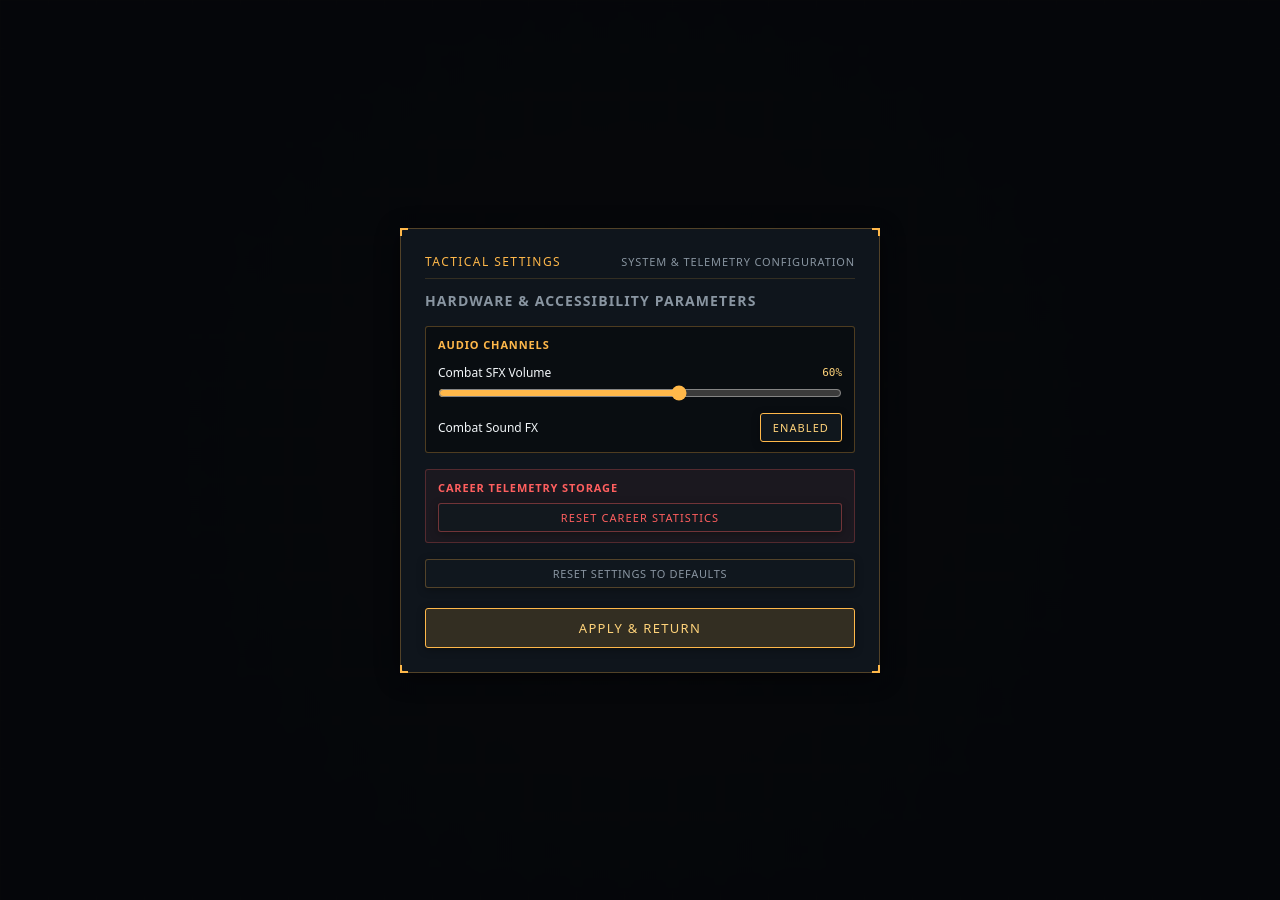
P6 Tactical Telemetry, Charts & Settings Tests › SettingsModal Component › toggles combat SFX and reflects in settingsStore
Click the button "ENABLED". click: coordinates (801, 427)
box: top-left (760, 412), bottom-right (842, 442)
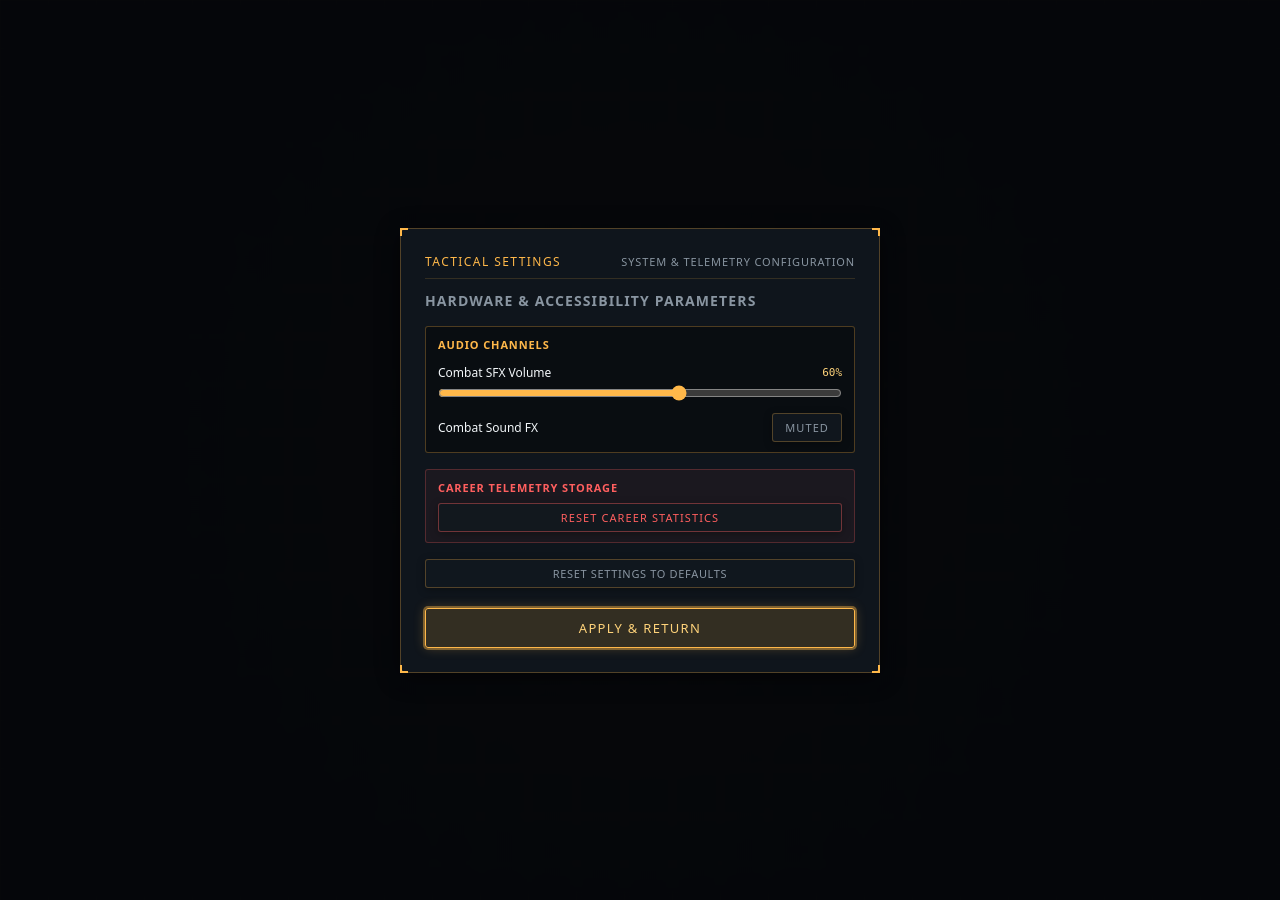
Now the button "MUTED" is shown, box top-left (772, 412), bottom-right (842, 442)
